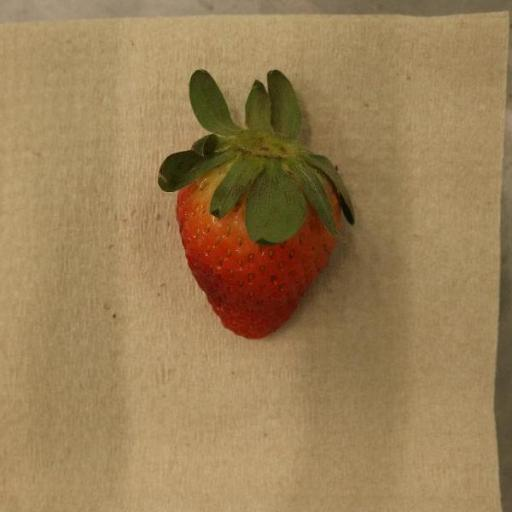Strawberry: (158, 69, 355, 341)
